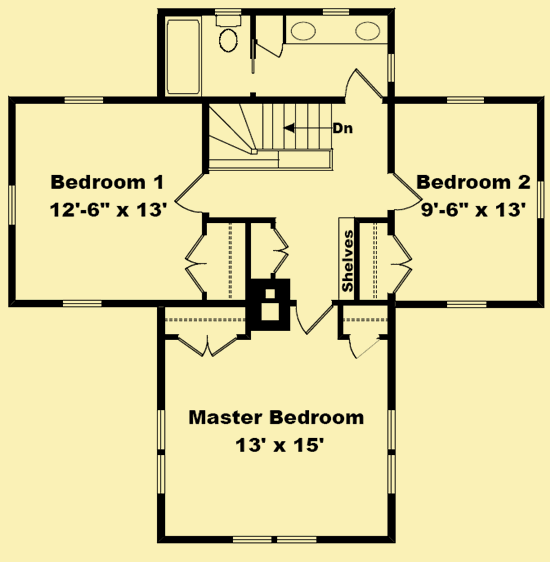door: (384, 231, 416, 296), (181, 229, 212, 296), (385, 167, 426, 216), (172, 171, 215, 217), (176, 330, 244, 358), (341, 66, 385, 109), (291, 296, 336, 338), (263, 222, 290, 278), (345, 332, 386, 361), (253, 37, 289, 59)
large sink: (212, 13, 245, 55)
small sink: (284, 13, 392, 47)
stairs: (205, 99, 355, 177)
tub: (162, 11, 206, 101)
windows: (151, 404, 171, 497), (383, 406, 403, 499), (226, 531, 323, 549), (3, 180, 22, 231), (57, 296, 111, 312), (442, 297, 493, 313), (60, 91, 107, 108), (441, 93, 489, 109), (533, 177, 550, 220)
